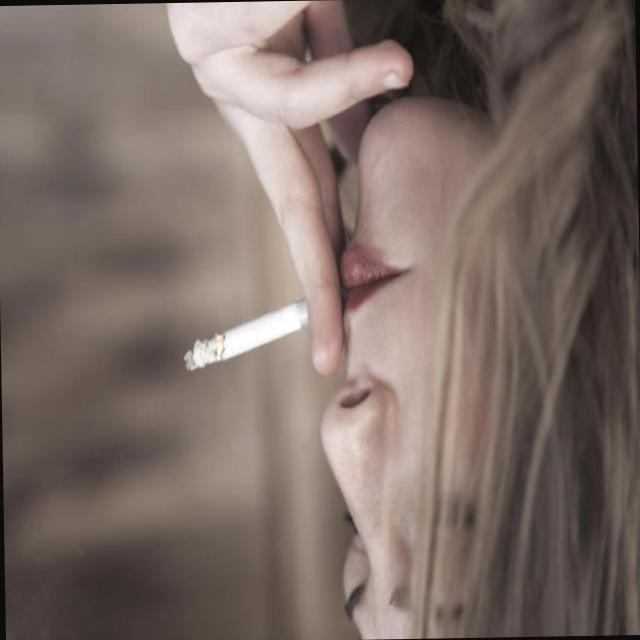smoke: (177, 284, 342, 381)
